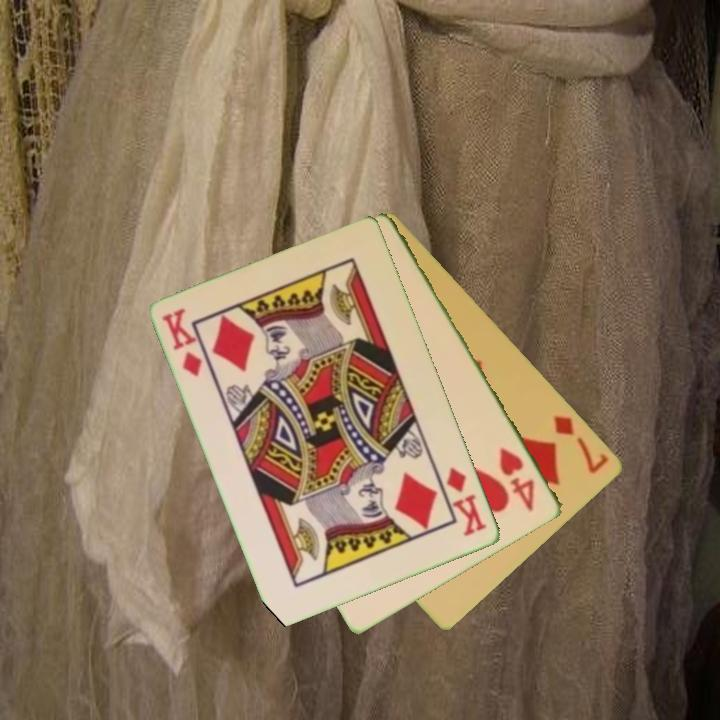4h: (496, 443, 538, 515)
7d: (550, 411, 612, 477)
Kd: (443, 463, 490, 540), (159, 305, 206, 380)
